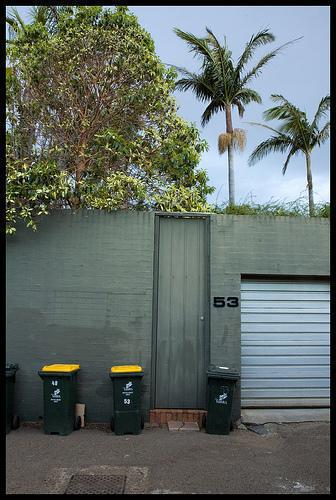Bote de Basura: (42, 362, 81, 434), (200, 365, 237, 434), (110, 361, 140, 431)
